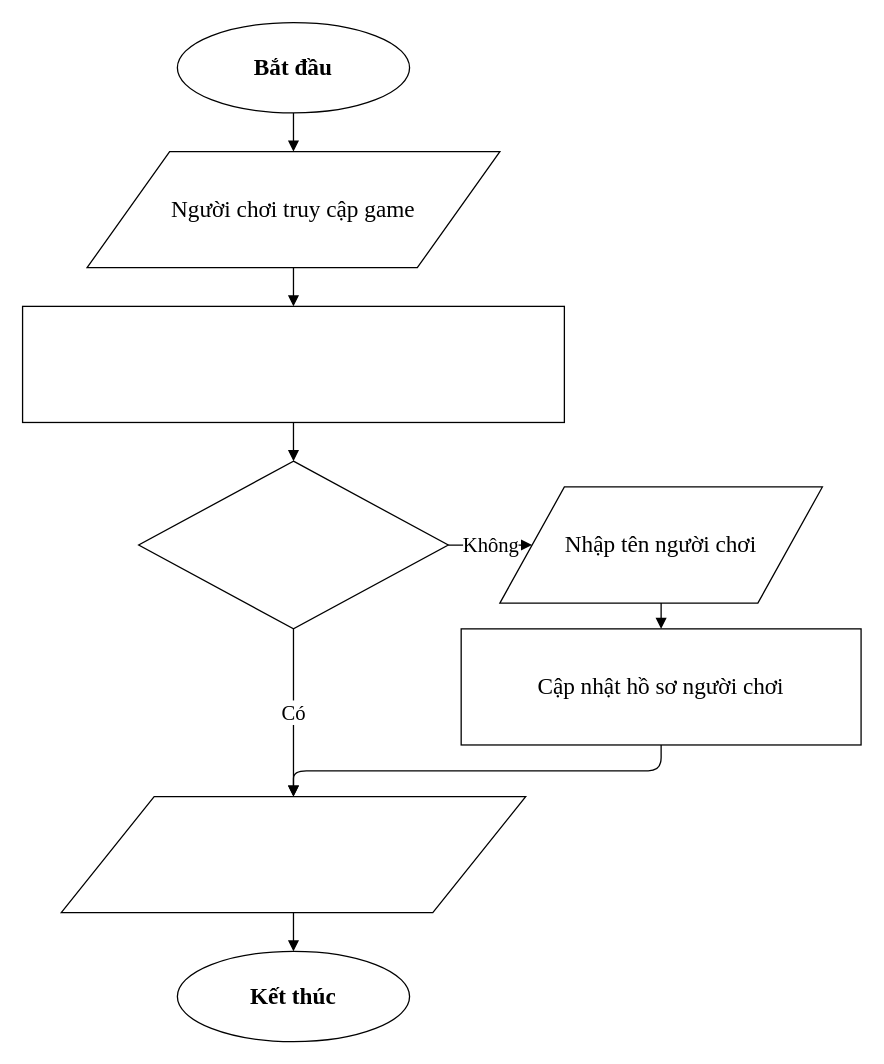
Some shapes in this 884 by 1064 pixel diagram are drawn without their labels. Here are the shapes that lost their labels. From the top down, the box of each, then its label:
(21, 305, 564, 422): Đăng nhập PlayFab bằng định danh cục bộ
(137, 460, 448, 629): Đã có tên hiển thị?
(60, 795, 526, 913): Lưu tên hiển thị và PlayFab ID
